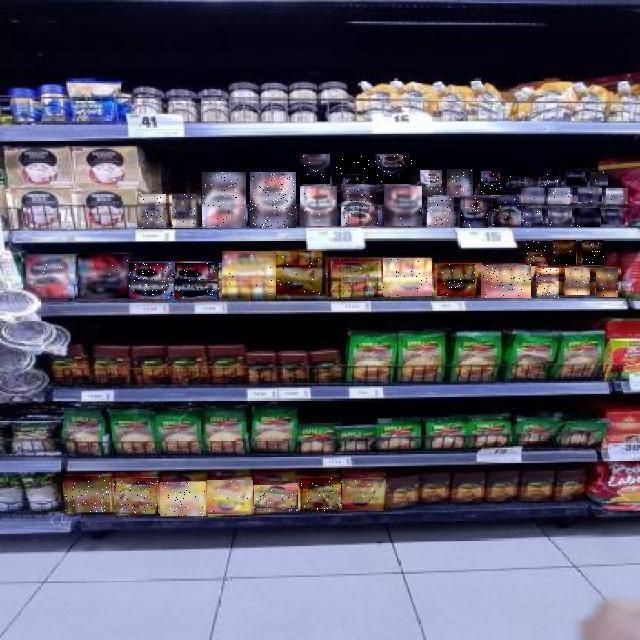Coffee: (250, 172, 296, 228), (222, 252, 276, 298), (202, 172, 246, 228), (276, 252, 328, 298), (79, 254, 131, 298), (26, 254, 74, 298), (383, 258, 432, 296), (333, 259, 379, 298), (176, 263, 222, 299), (65, 477, 111, 513), (481, 265, 531, 298), (129, 263, 174, 299), (342, 187, 382, 227), (114, 478, 158, 514), (207, 480, 253, 514), (160, 482, 206, 516), (384, 186, 422, 226), (300, 186, 337, 226), (300, 478, 342, 511), (342, 479, 386, 510), (437, 264, 475, 296), (254, 486, 298, 512), (374, 154, 412, 184), (336, 154, 370, 184), (139, 194, 167, 228), (301, 154, 331, 184), (460, 197, 488, 229), (428, 197, 456, 228), (172, 194, 196, 228), (493, 196, 519, 227), (536, 268, 559, 298), (447, 170, 473, 196), (565, 268, 590, 295), (596, 268, 618, 297), (553, 240, 576, 266), (526, 240, 548, 266), (582, 240, 604, 266), (420, 170, 442, 195), (480, 171, 502, 195), (575, 208, 600, 227), (548, 208, 572, 226), (601, 210, 625, 228), (509, 171, 533, 186), (548, 188, 570, 204), (606, 188, 628, 204), (521, 188, 544, 203), (523, 208, 542, 226), (578, 189, 602, 203), (540, 171, 558, 187), (566, 172, 585, 186), (590, 172, 608, 186)
